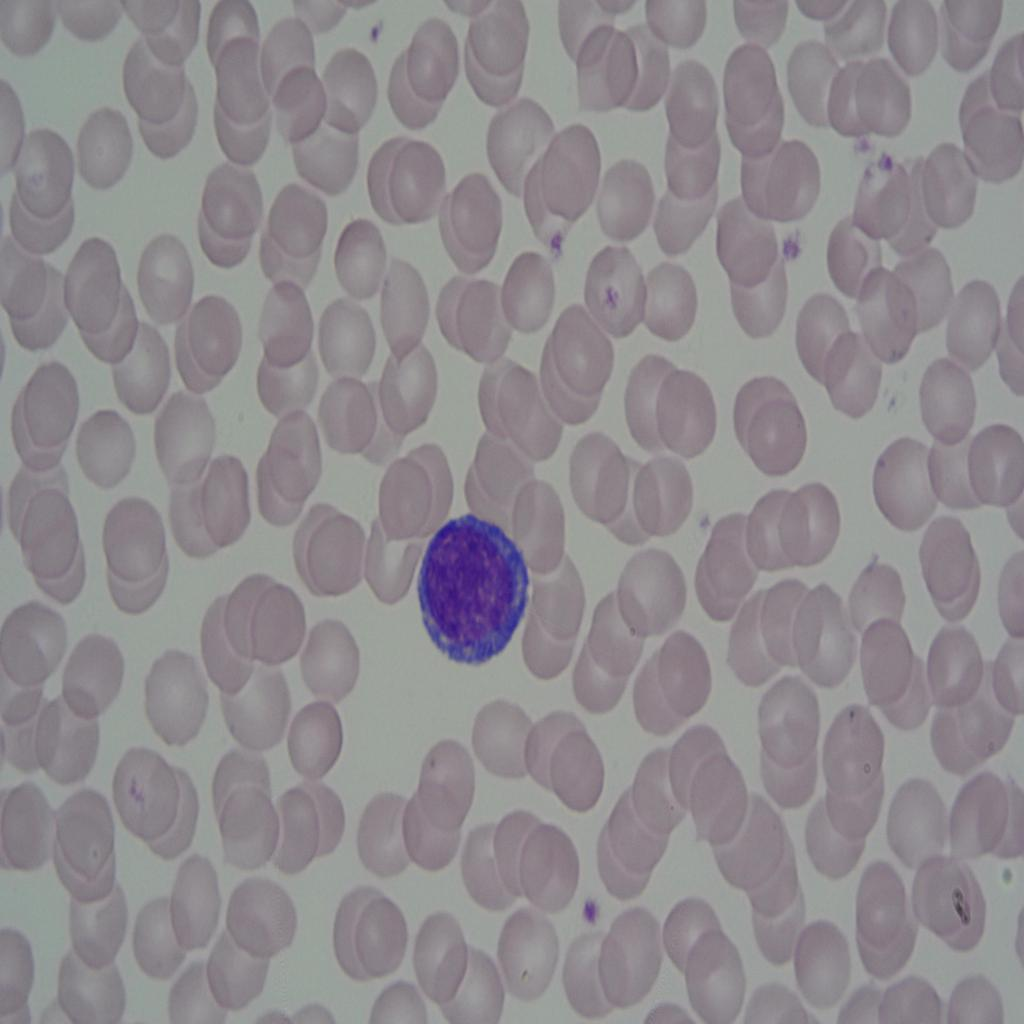Basofil: (410, 499, 536, 681)
Platelet: (562, 885, 607, 935), (592, 271, 630, 314), (872, 152, 904, 190), (548, 214, 566, 262), (364, 14, 394, 42), (853, 123, 874, 161), (782, 229, 799, 265)
